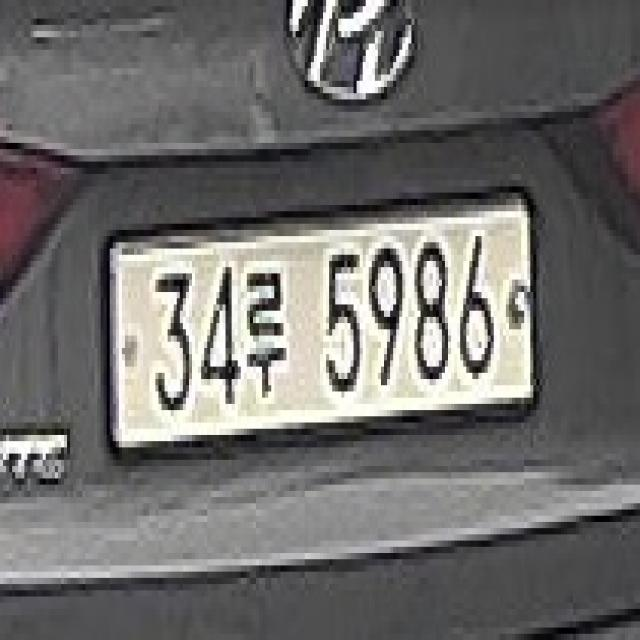3: (149, 261, 195, 416)
4: (195, 267, 241, 410)
5: (323, 242, 363, 398)
6: (457, 230, 497, 379)
8: (408, 236, 451, 385)
9: (369, 242, 402, 386)
license_plate: (91, 180, 542, 466)
lu: (241, 267, 286, 398)
